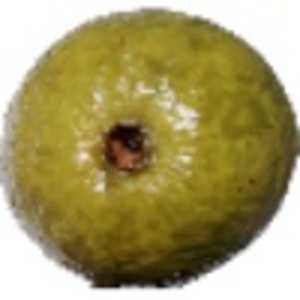goiaba: (5, 5, 291, 278)
